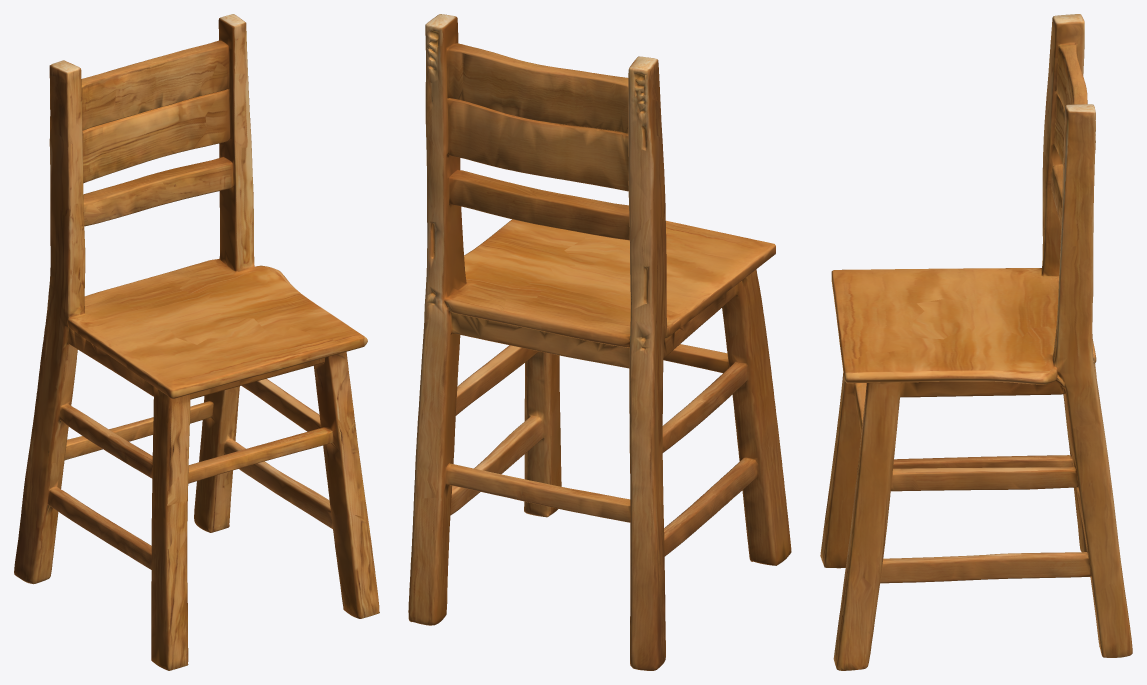
File: 纸烬决斗_木椅游戏道具_20260910.glb
3 views of the same model, side by side, from view 1: azimuth 30°, elevation 25°; view 2: azimuth 150°, elevation 25°; view 3: azimuth 270°, elevation 25° (orthographic). The views are drawn at different scales.
Visible parts, largest first — view 1: 木椅_Model_0; view 2: 木椅_Model_0; view 3: 木椅_Model_0.
Boxes of the visible parts, <box> form: 木椅_Model_0: <box>14,14,379,670</box>; 木椅_Model_0: <box>408,14,791,670</box>; 木椅_Model_0: <box>820,14,1132,670</box>.
Bounding box in the file's own units: 0.602 × 1.25 × 0.6459.
Materials: 1 (1 with a texture image).
